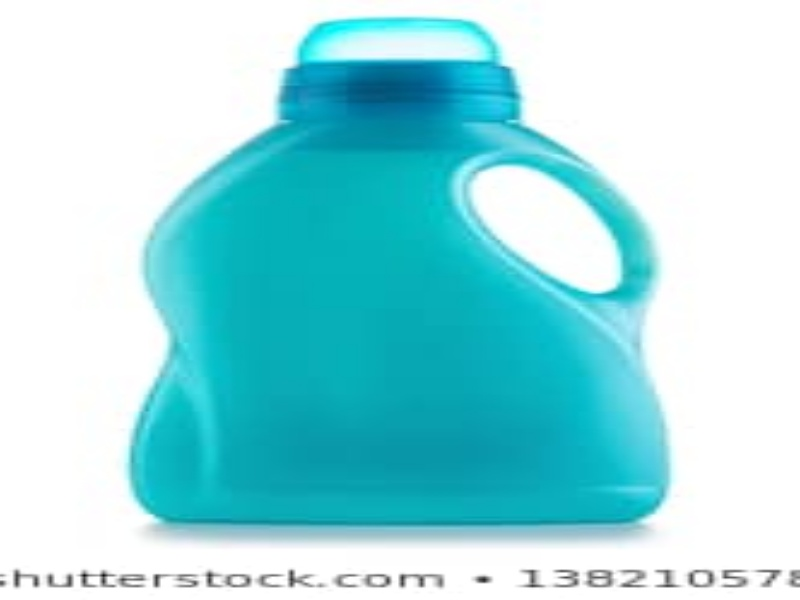detergent-bottle: (124, 13, 681, 530)
